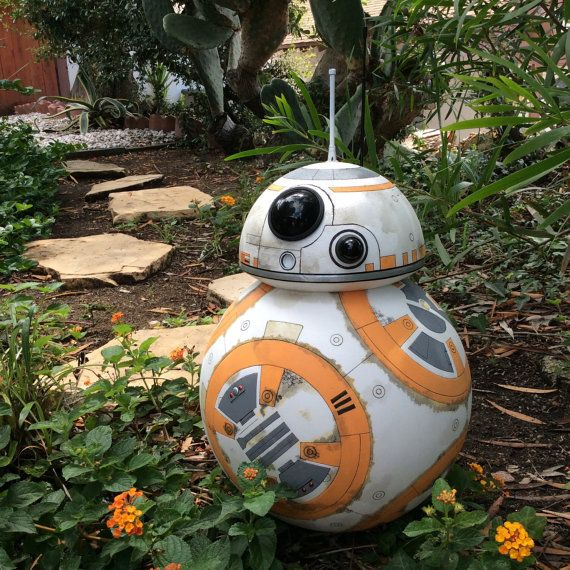bb8: (198, 160, 473, 533)
